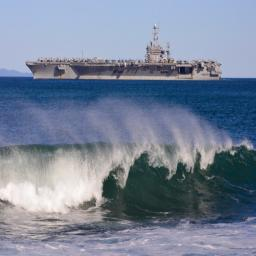Portanaves: (26, 23, 225, 83)
